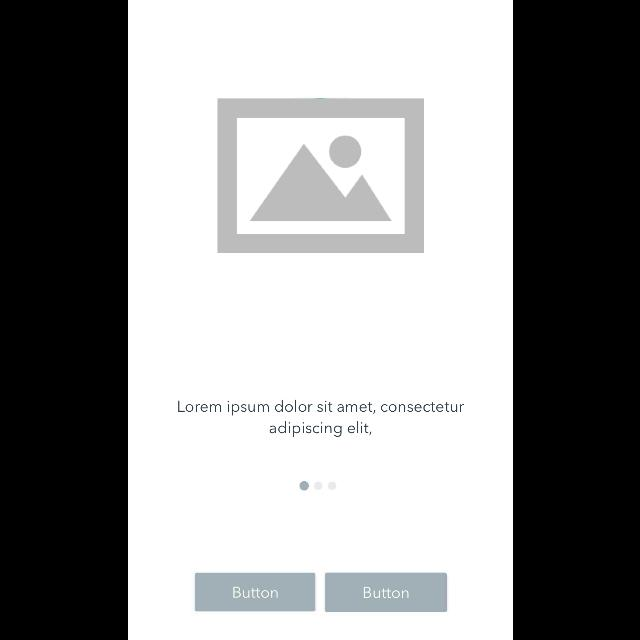image: (216, 98, 424, 254)
pageindicator: (298, 481, 336, 491)
text: (177, 399, 463, 436)
textbutton: (324, 572, 446, 612), (193, 572, 314, 612)
